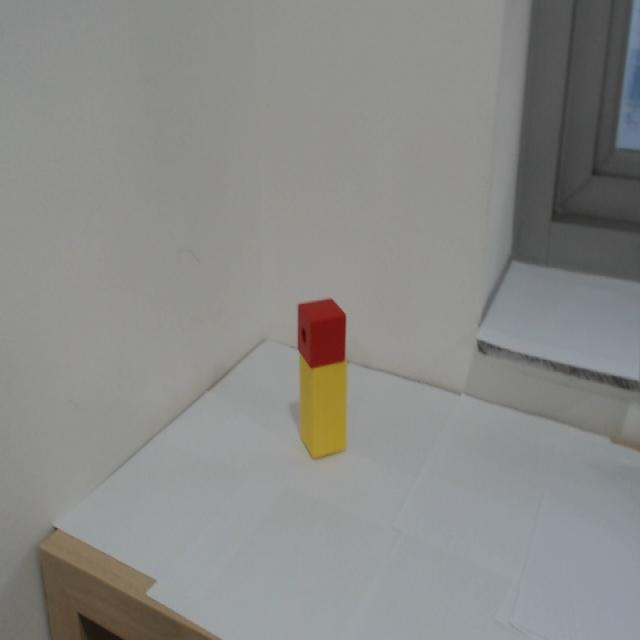cube: (291, 283, 351, 376)
